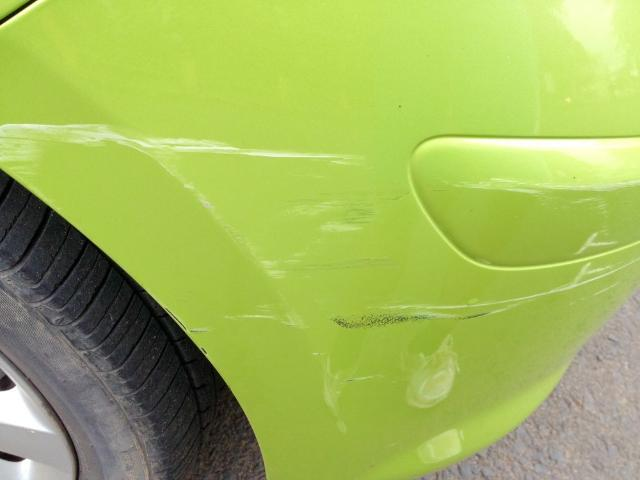scratch: (0, 120, 640, 479)
